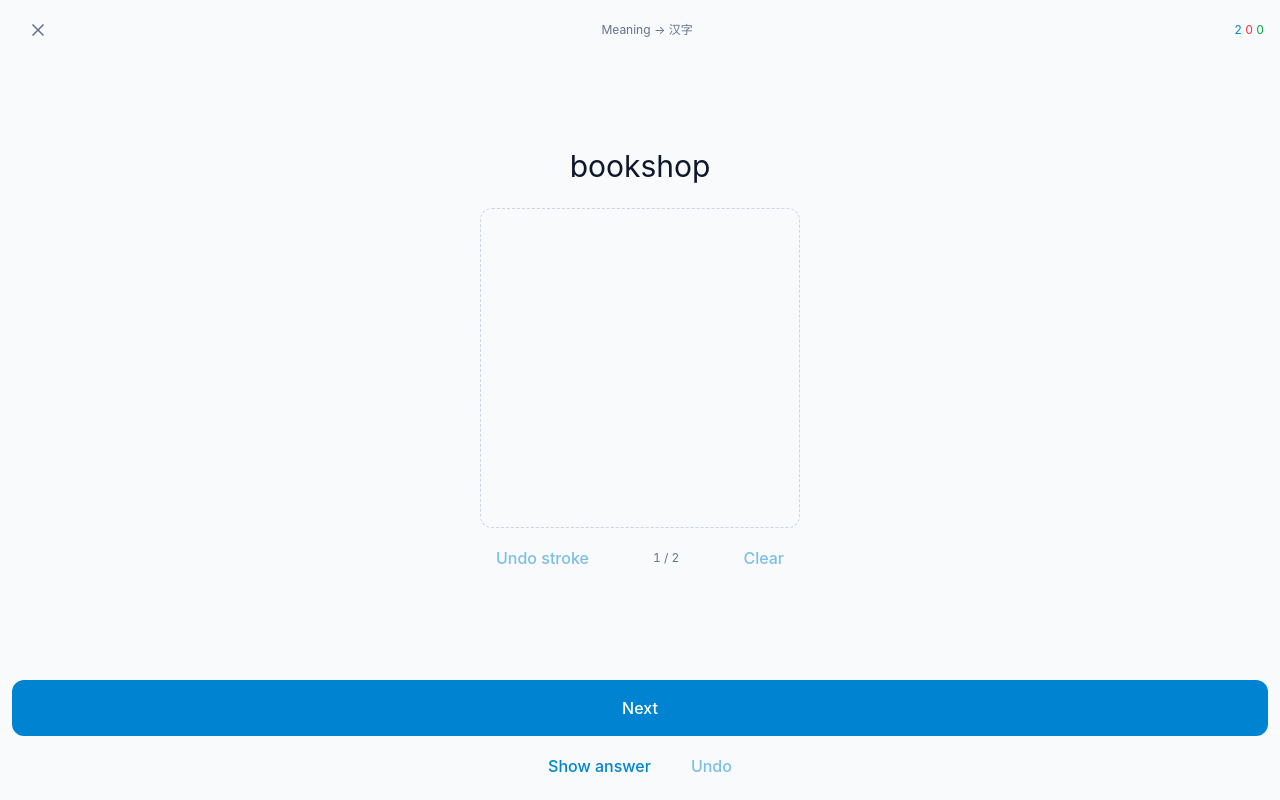
Scenario: StudyPage › writing cards › clears a drawing when the review is undone
This screenshot has width=1280, height=800.
Step 1. Click the button "Next" → [640, 708], box [12,680,1268,736]
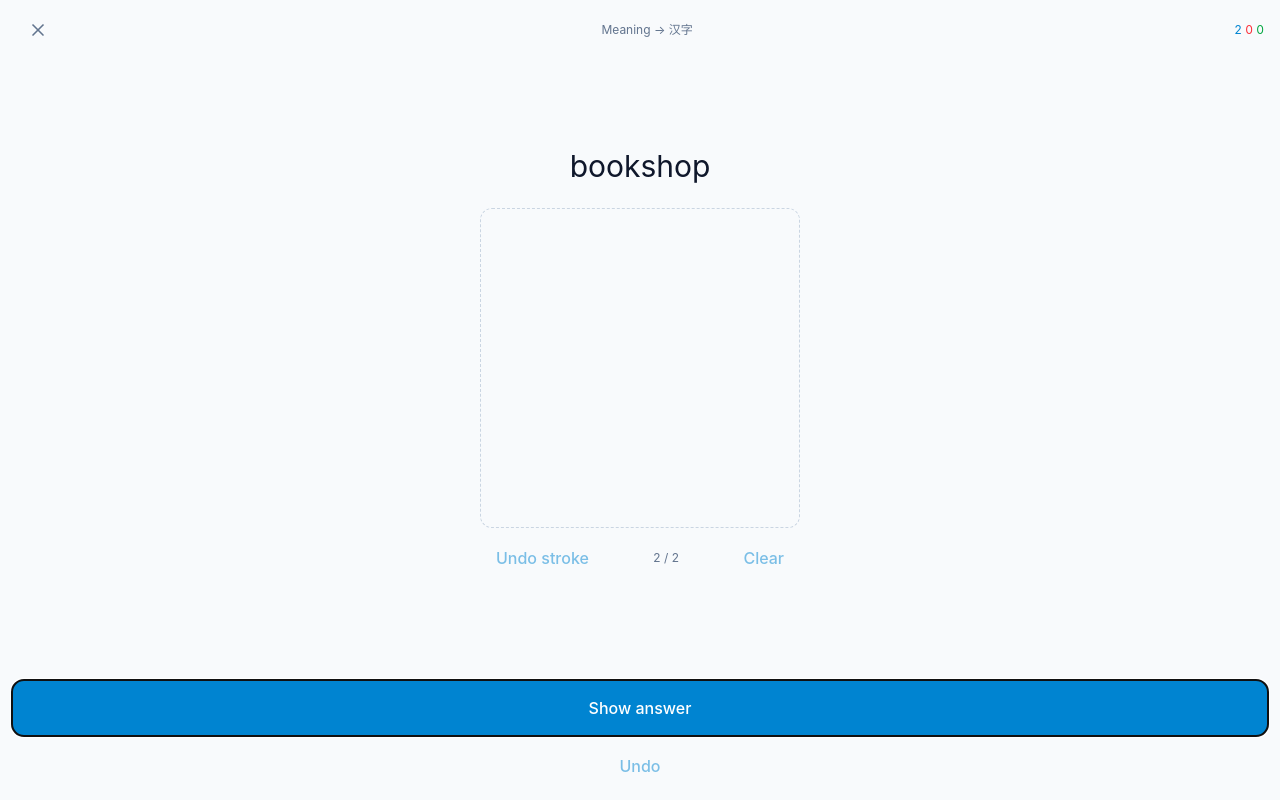
Step 2. Click the button "Show answer" → [640, 708], box [12,680,1268,736]
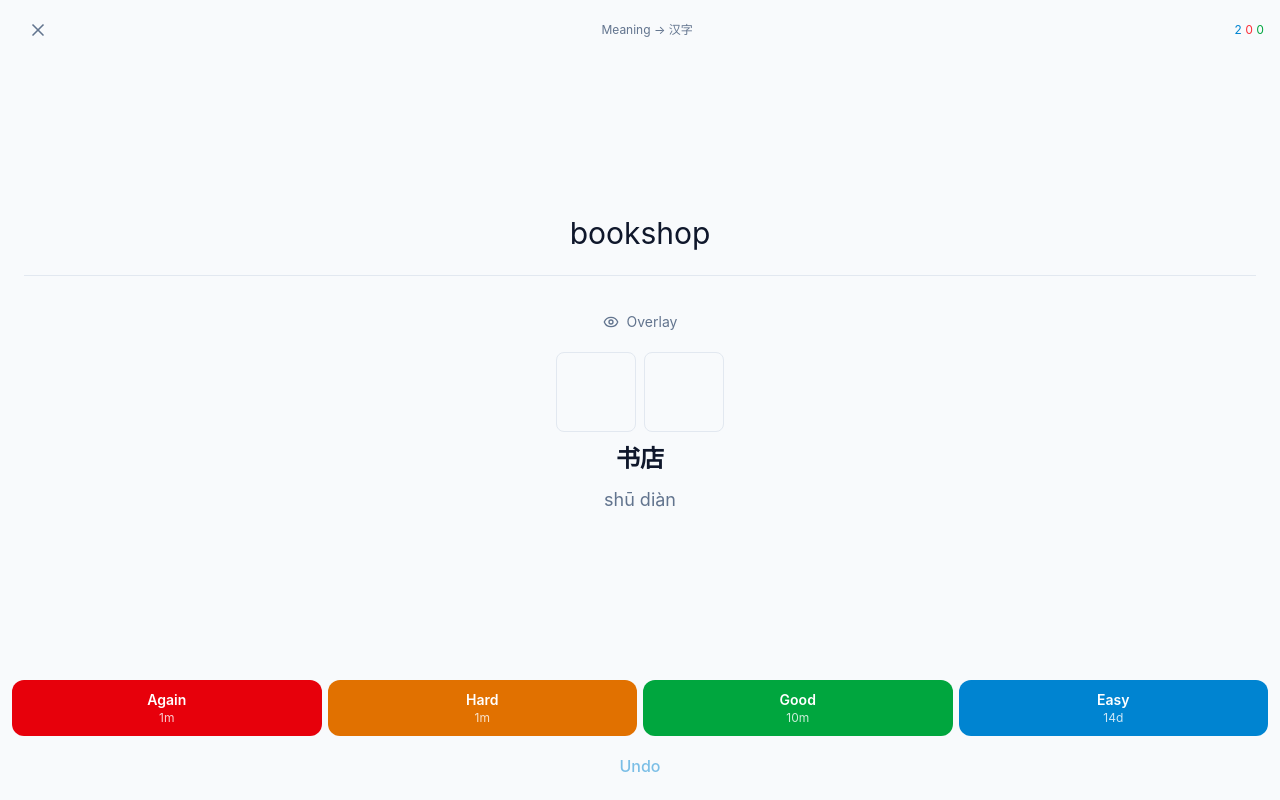
Step 3. Click the button "Easy 14d" → [1113, 708], box [958,680,1268,736]
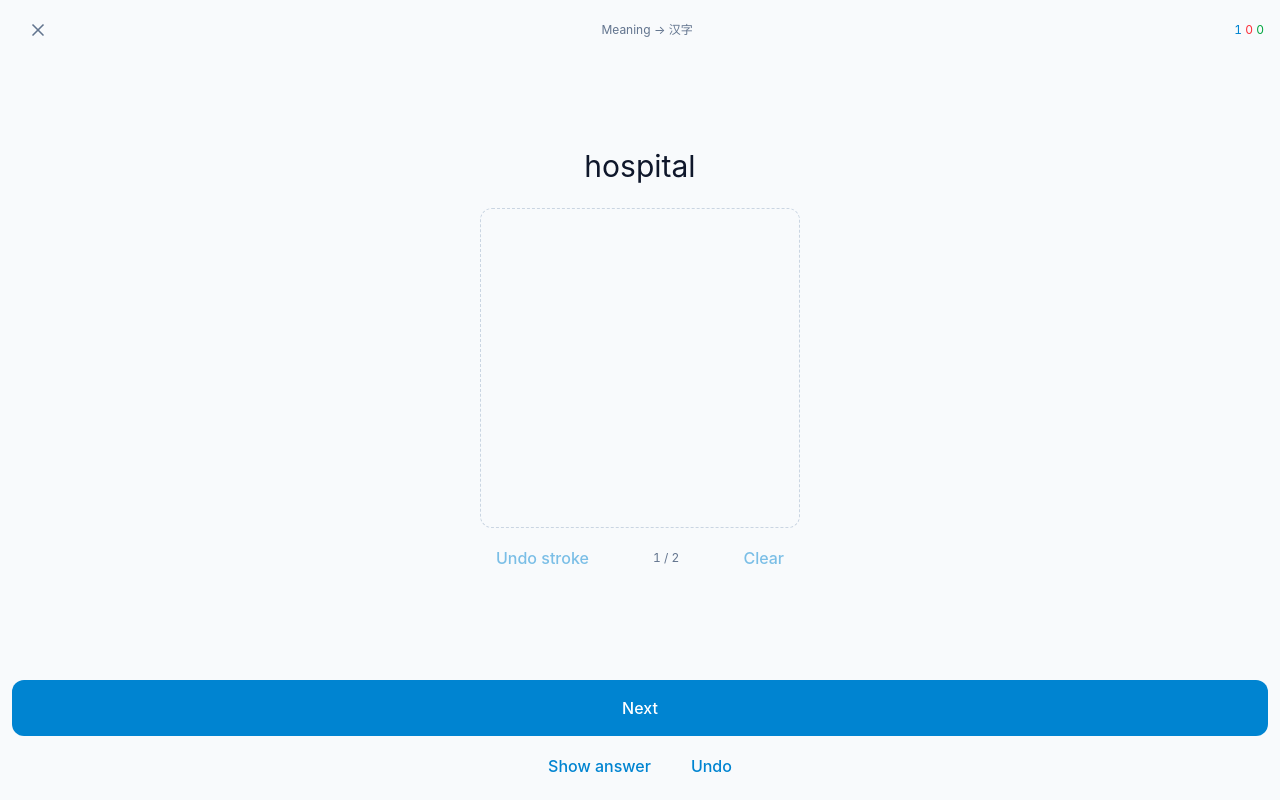
Result: the text with test id "writing-progress" reads "1 / 2" at [653,550,679,566]
Step 4. Press the mouse on the picture named "Draw character 1 of 2" → [640, 368], box [481,209,799,527]
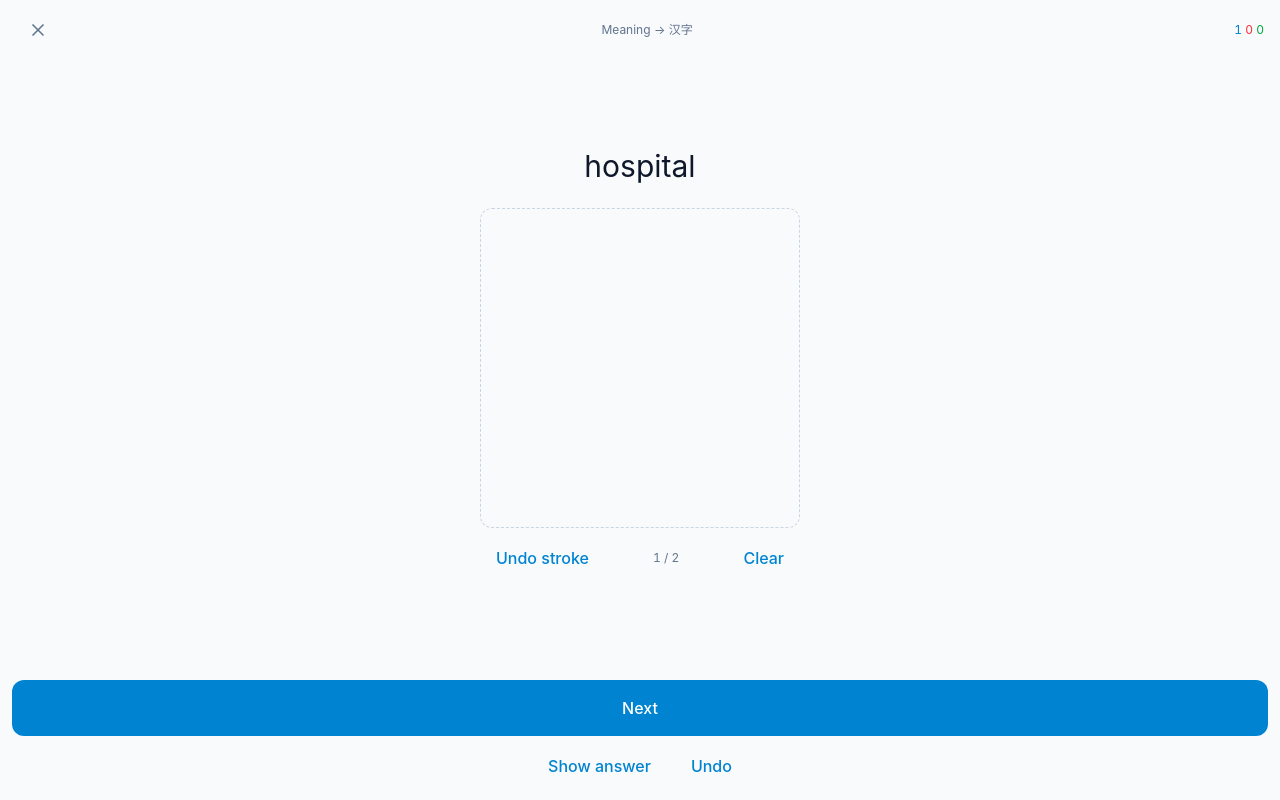
Result: the button "Undo stroke" is enabled at [480,536,605,580]
Step 5. Click the button "Undo" → [711, 766], box [675,744,748,788]
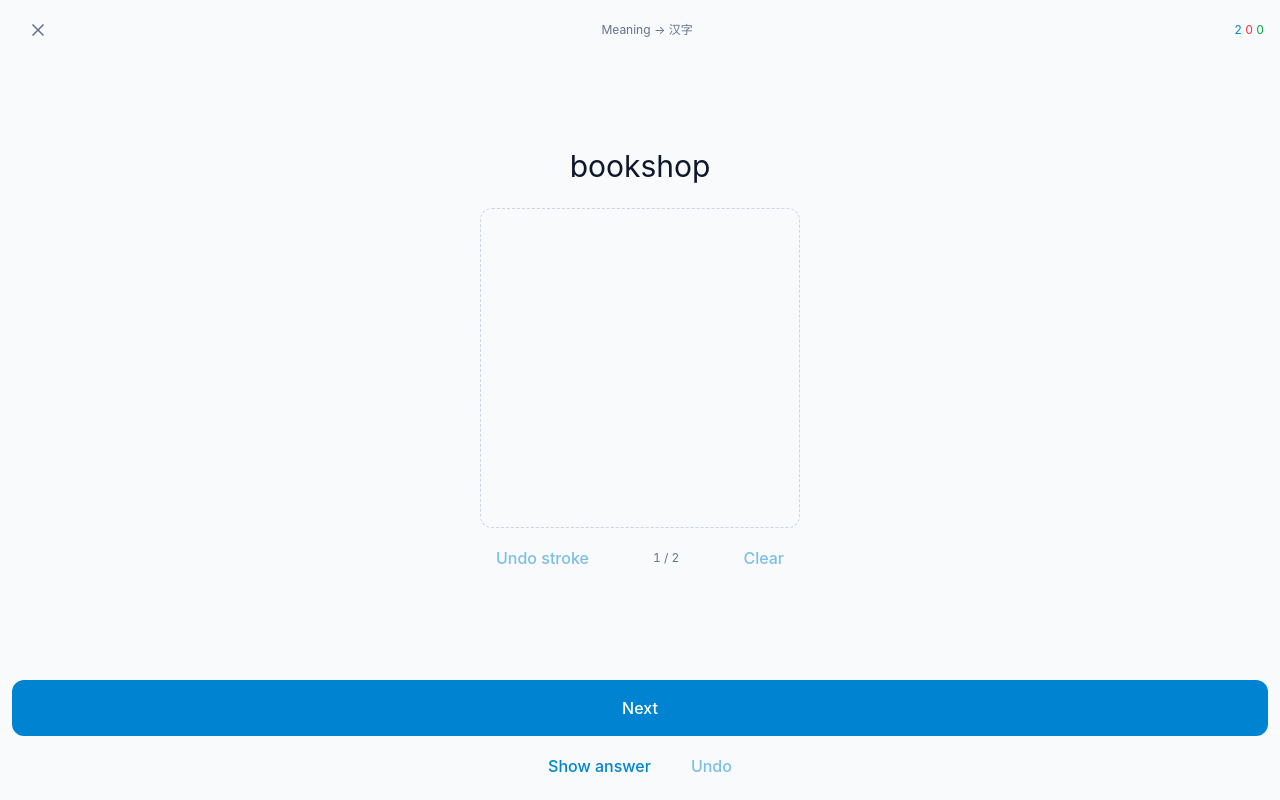
Result: the element with test id "prompt" reads "bookshop" at [570,148,710,184]
Result: the button "Undo stroke" is disabled at [480,536,605,580]
